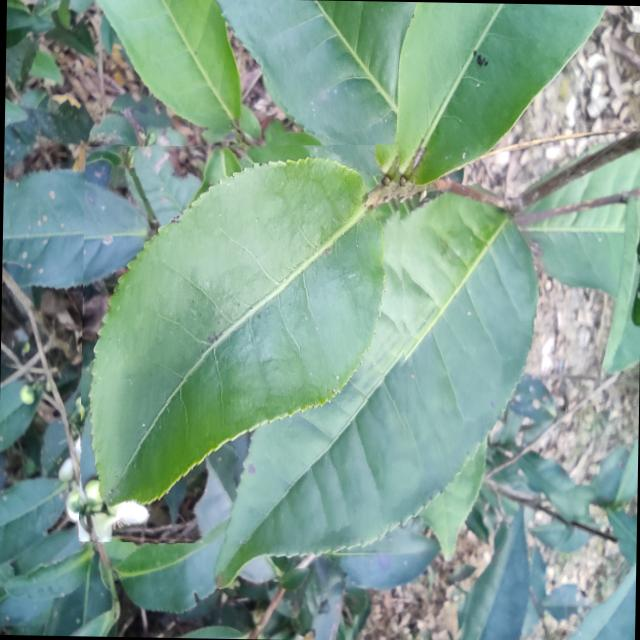Category D(7+ days, Not for Tea): (77, 138, 415, 546)
